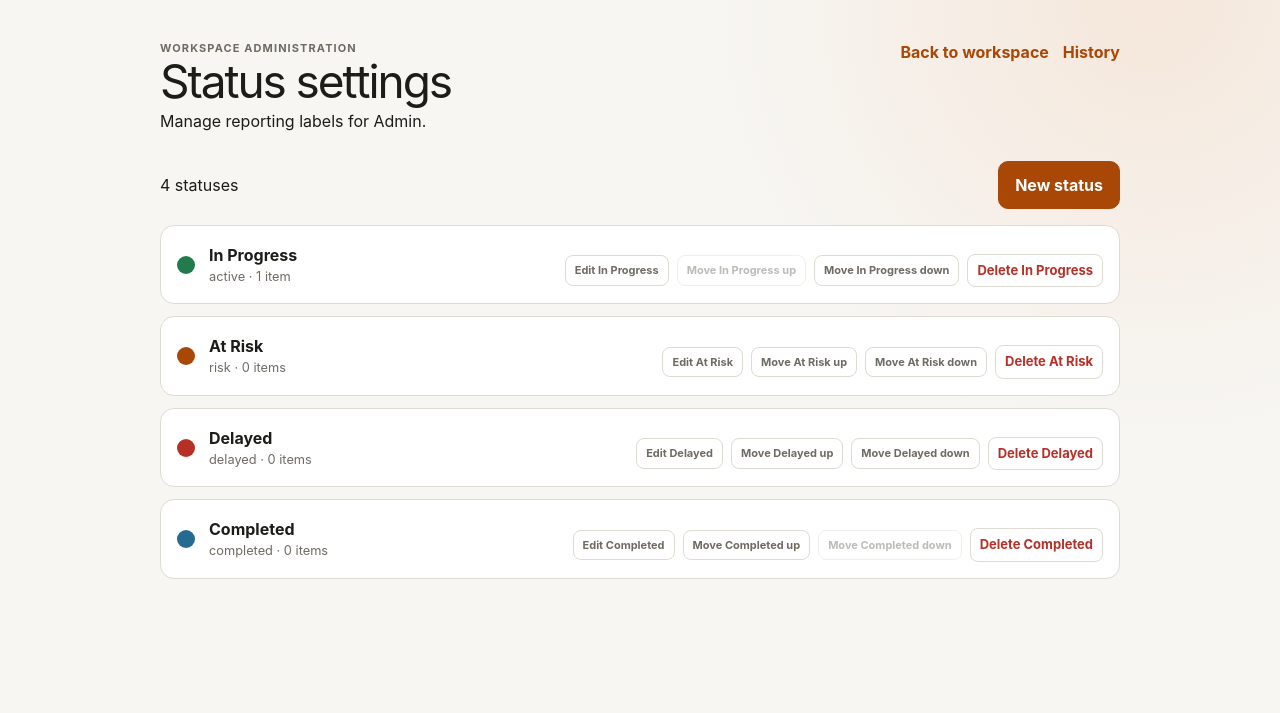
Test: StatusManager › treats stale status updates as non-retryable and requires re-editing
Click the button "Edit In Progress".
click(617, 271)  # box top-left (565, 255), bottom-right (669, 286)
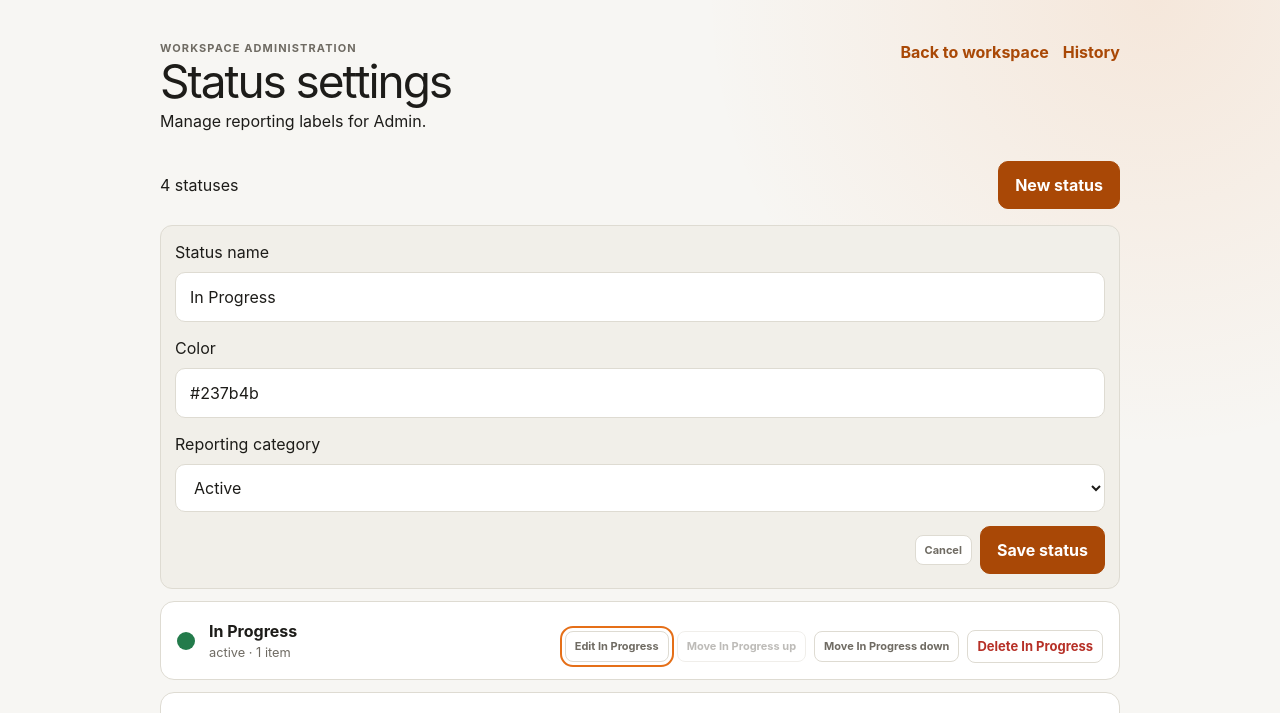
Replace the text in the field labelled "Status name" with "My stale edit" at (640, 297), box top-left (175, 272), bottom-right (1105, 322)
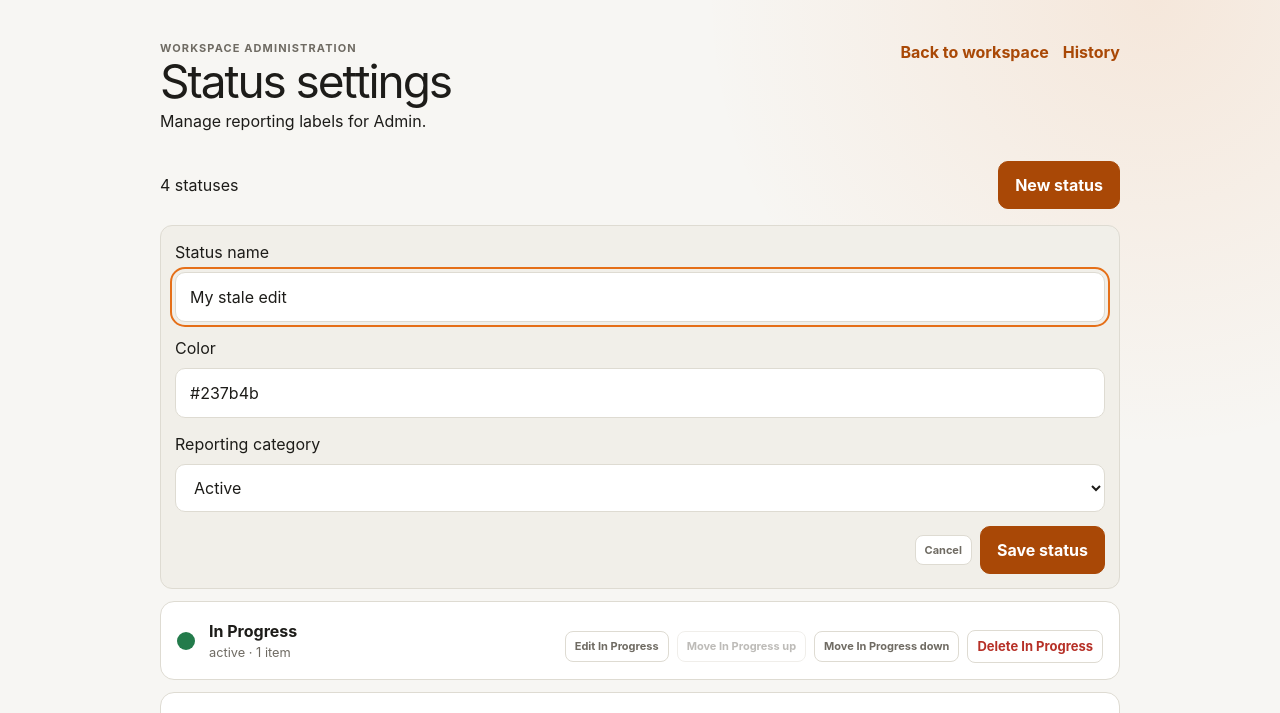
Click the button "Save status".
click(1042, 550)  # box top-left (980, 526), bottom-right (1105, 574)
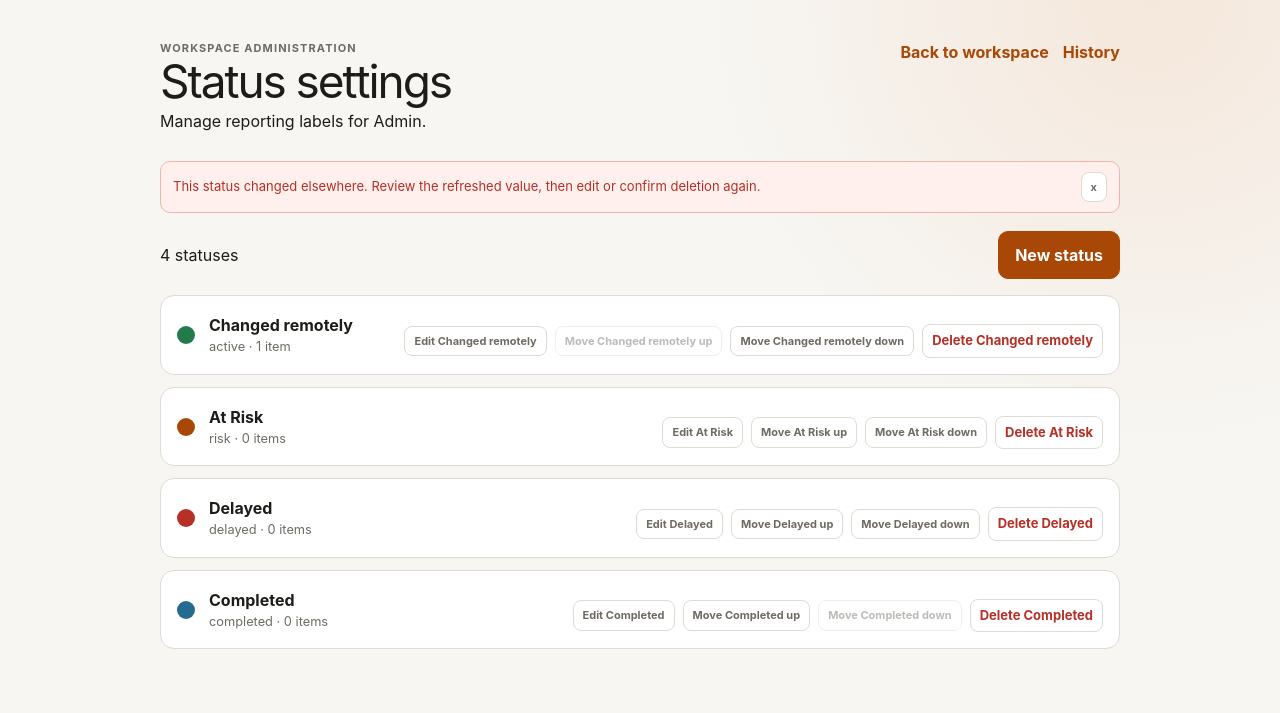
Now the text "Changed remotely" is shown, box top-left (209, 316), bottom-right (353, 336)
